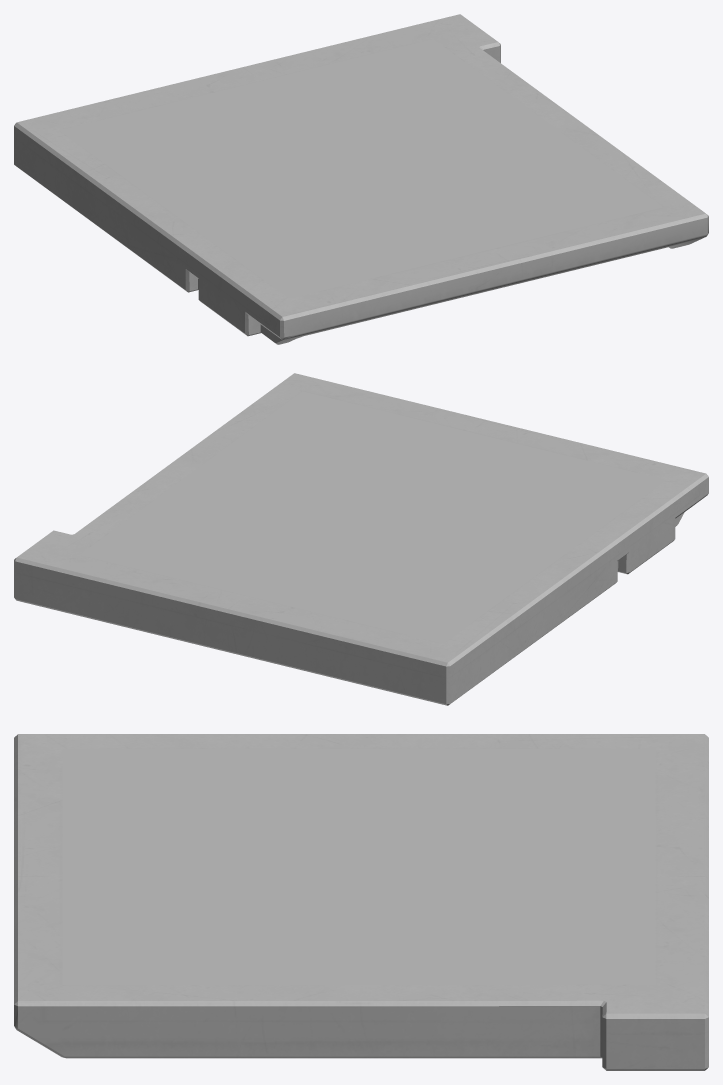
Rendered from 3ds-card.glb.
The picture shows the model from 3 angles, top to bottom: view 1: azimuth 30°, elevation 25°; view 2: azimuth 150°, elevation 25°; view 3: azimuth 270°, elevation 25°; orthographic projection. The views are drawn at different scales.
Parts seen in each view (by area): view 1: Cartridge_Backup:Cage; view 2: Cartridge_Backup:Cage; view 3: Cartridge_Backup:Cage.
Boxes of the visible parts, bbox=[...] form: Cartridge_Backup:Cage: bbox=[14, 14, 708, 344]; Cartridge_Backup:Cage: bbox=[14, 373, 708, 705]; Cartridge_Backup:Cage: bbox=[14, 734, 708, 1070].
Bounding box in the file's own units: 30.22 × 2.87 × 31.35.
1 material, 1 textured.
